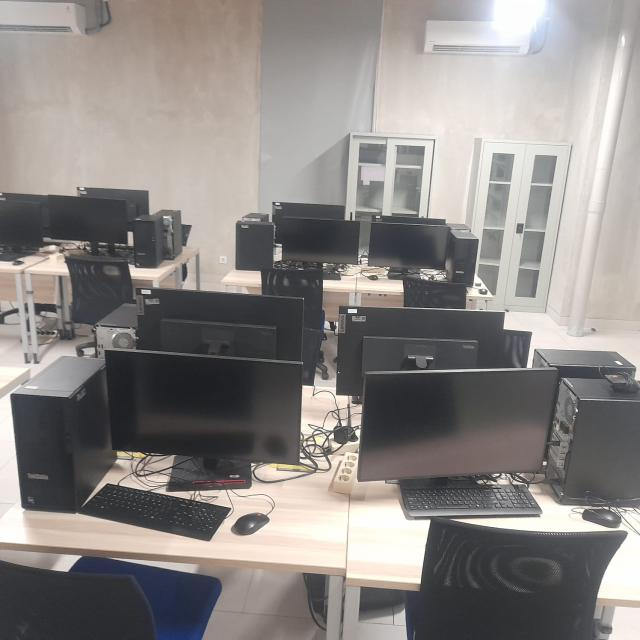keyboard: (80, 483, 230, 541), (398, 483, 542, 518)
monitor: (105, 347, 302, 491), (357, 367, 560, 487), (135, 286, 305, 386), (336, 305, 504, 397), (361, 336, 479, 404), (47, 195, 128, 257), (368, 221, 450, 280), (160, 319, 275, 360), (282, 216, 361, 272), (272, 201, 345, 244), (77, 187, 148, 230), (0, 200, 43, 262), (1, 192, 51, 238), (370, 216, 445, 223)
mouse: (234, 512, 270, 535), (582, 508, 622, 528)
pc: (10, 356, 116, 512), (546, 376, 640, 504), (533, 350, 636, 378), (93, 304, 136, 358), (236, 219, 275, 271), (445, 230, 479, 288), (132, 214, 163, 268), (152, 209, 183, 259)
